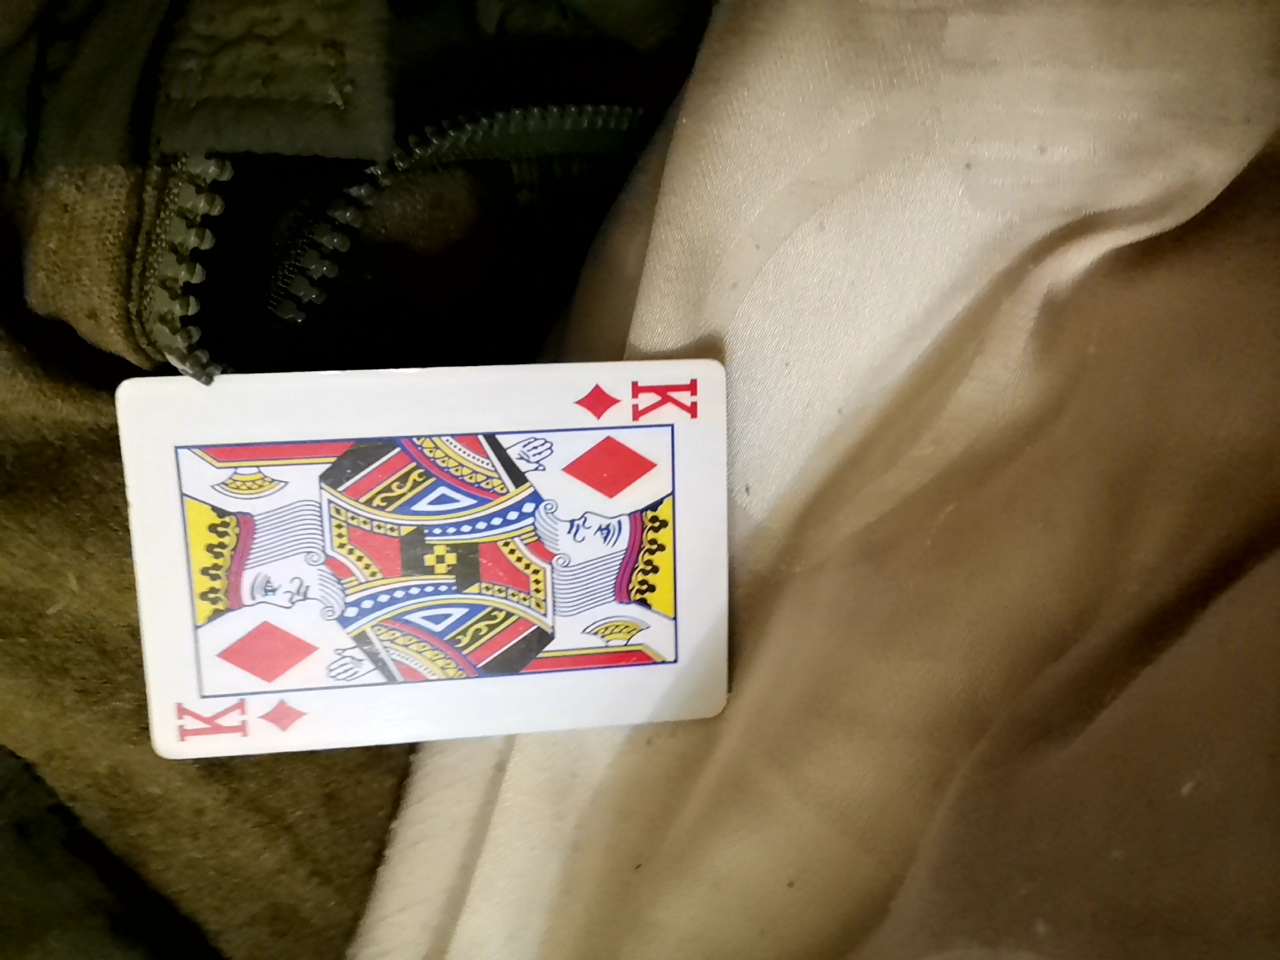fk k: (132, 333, 737, 753)
